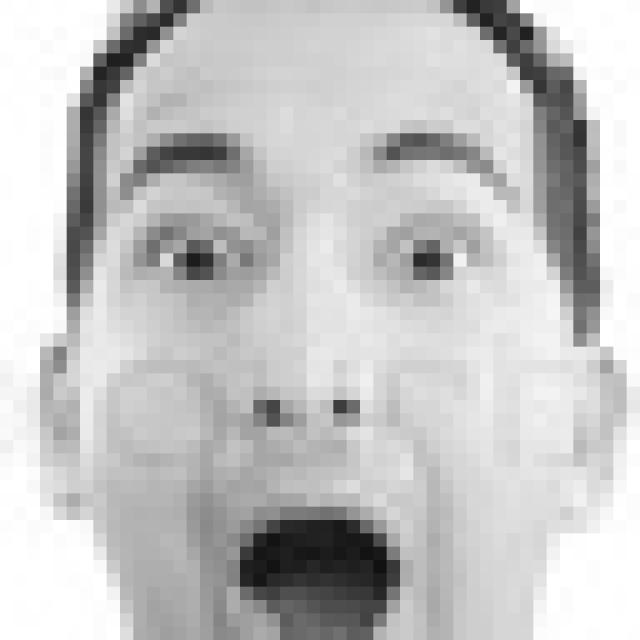surprise: (123, 131, 526, 640)
